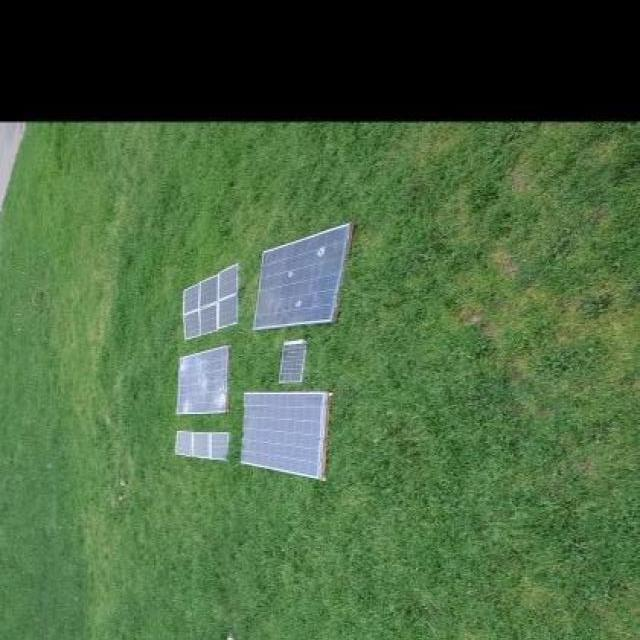cracked: (175, 349, 230, 414)
soiled: (251, 225, 349, 328)
